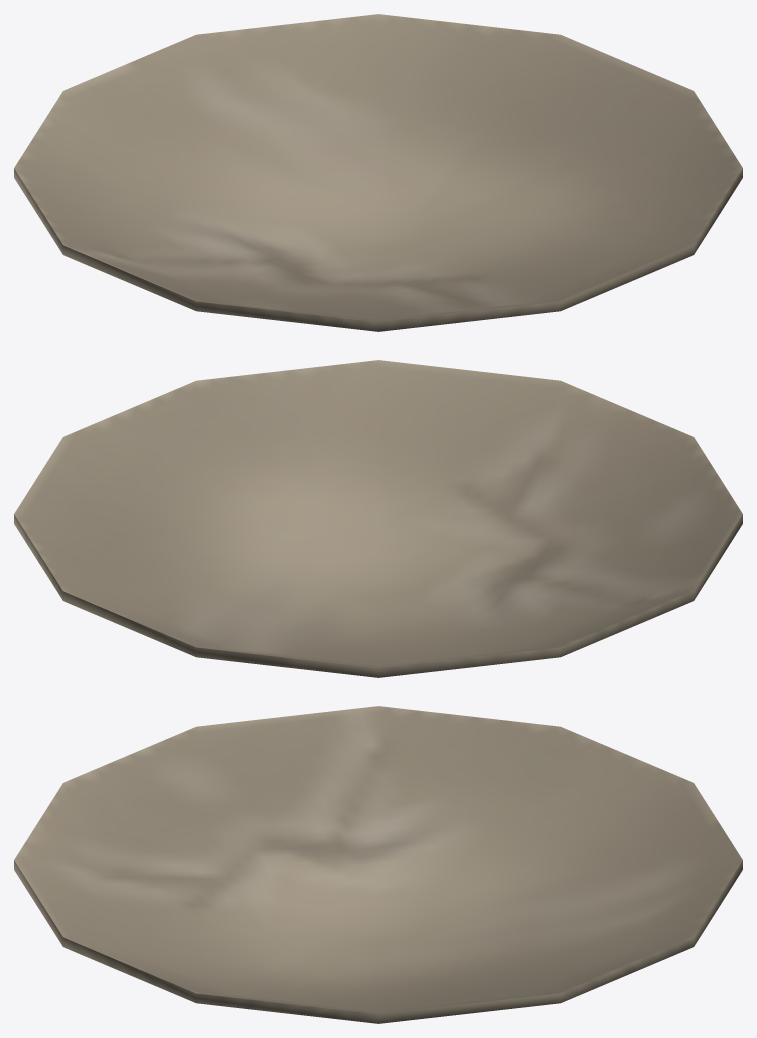
File: маленькая тарелка.fbx
3 renders of one model, top to bottom at view 1: azimuth 30°, elevation 25°; view 2: azimuth 150°, elevation 25°; view 3: azimuth 270°, elevation 25°, orthographic.
Parts seen in each view (by area): view 1: тарелка большая.001_cell.006; view 2: тарелка большая.001_cell.006; view 3: тарелка большая.001_cell.006.
Part boxes in pixels (left/top/right/bottom): тарелка большая.001_cell.006: left=14, top=14, right=742, bottom=331; тарелка большая.001_cell.006: left=14, top=360, right=742, bottom=677; тарелка большая.001_cell.006: left=14, top=706, right=742, bottom=1023.
Size of the model in its own units: 19.99 by 2.15 by 19.99.
1 material, 1 textured.
